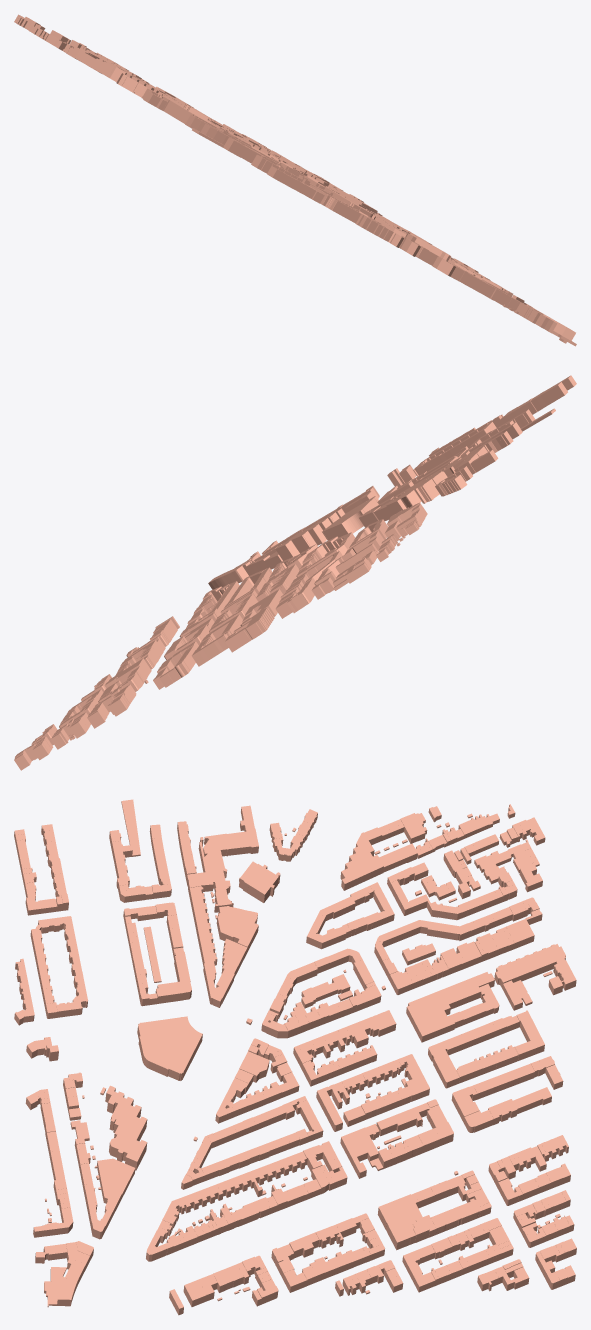
3 views of the same model, one above another, from view 1: azimuth 30°, elevation 25°; view 2: azimuth 150°, elevation 25°; view 3: azimuth 270°, elevation 25° (orthographic). The views are drawn at different scales.
Size of the model in its own units: 540 by 401 by 633.
